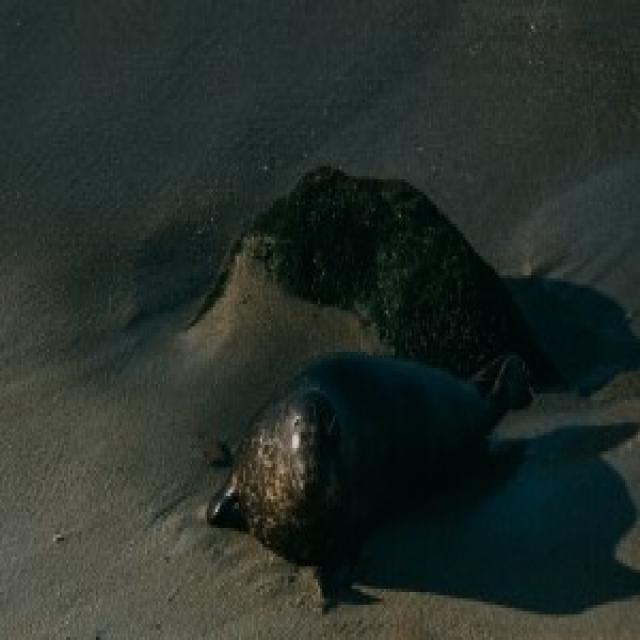Seal: (206, 346, 505, 580)
